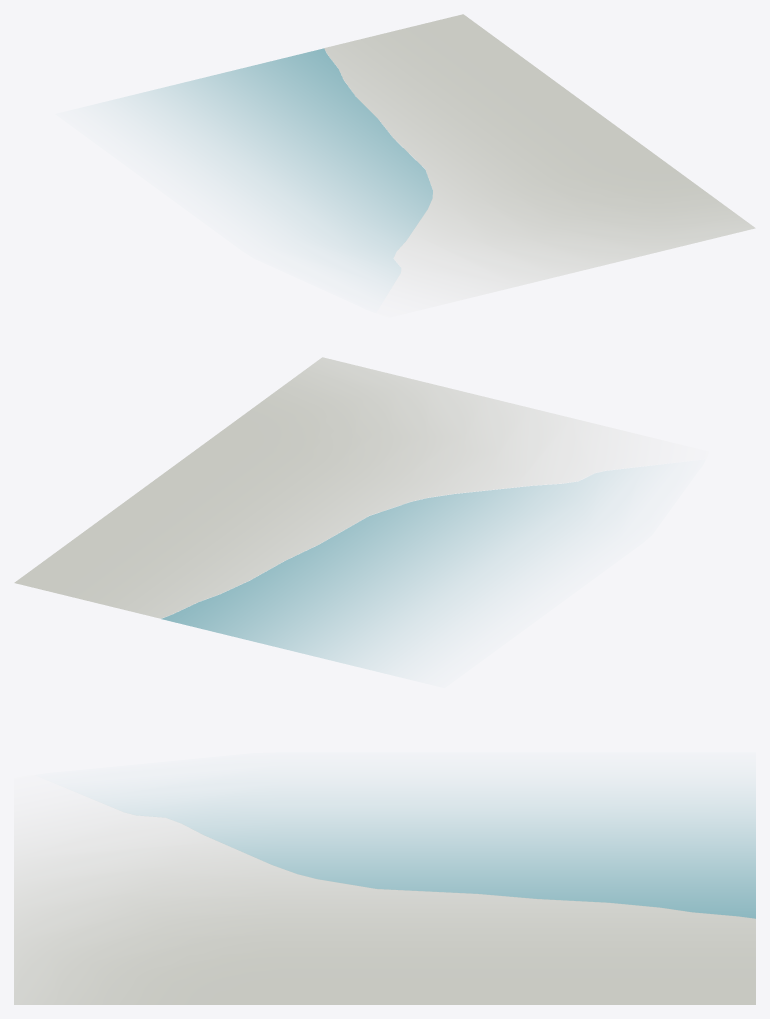
The picture shows the model from 3 angles, top to bottom: view 1: azimuth 30°, elevation 25°; view 2: azimuth 150°, elevation 25°; view 3: azimuth 270°, elevation 25°; orthographic projection. The views are drawn at different scales.
Parts seen in each view (by area): view 1: city; view 2: city; view 3: city.
Boxes of the visible parts, x1,y1,x2,y2 form: city: [116, 14, 755, 300]; city: [14, 357, 636, 671]; city: [14, 790, 755, 1004].
Bounding box in the file's own units: 443 × 0.18 × 500.
